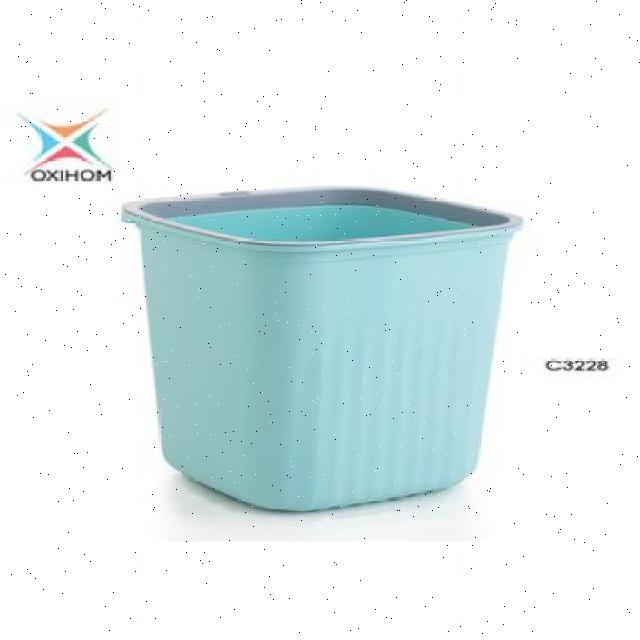garbage container: (112, 180, 540, 525)
